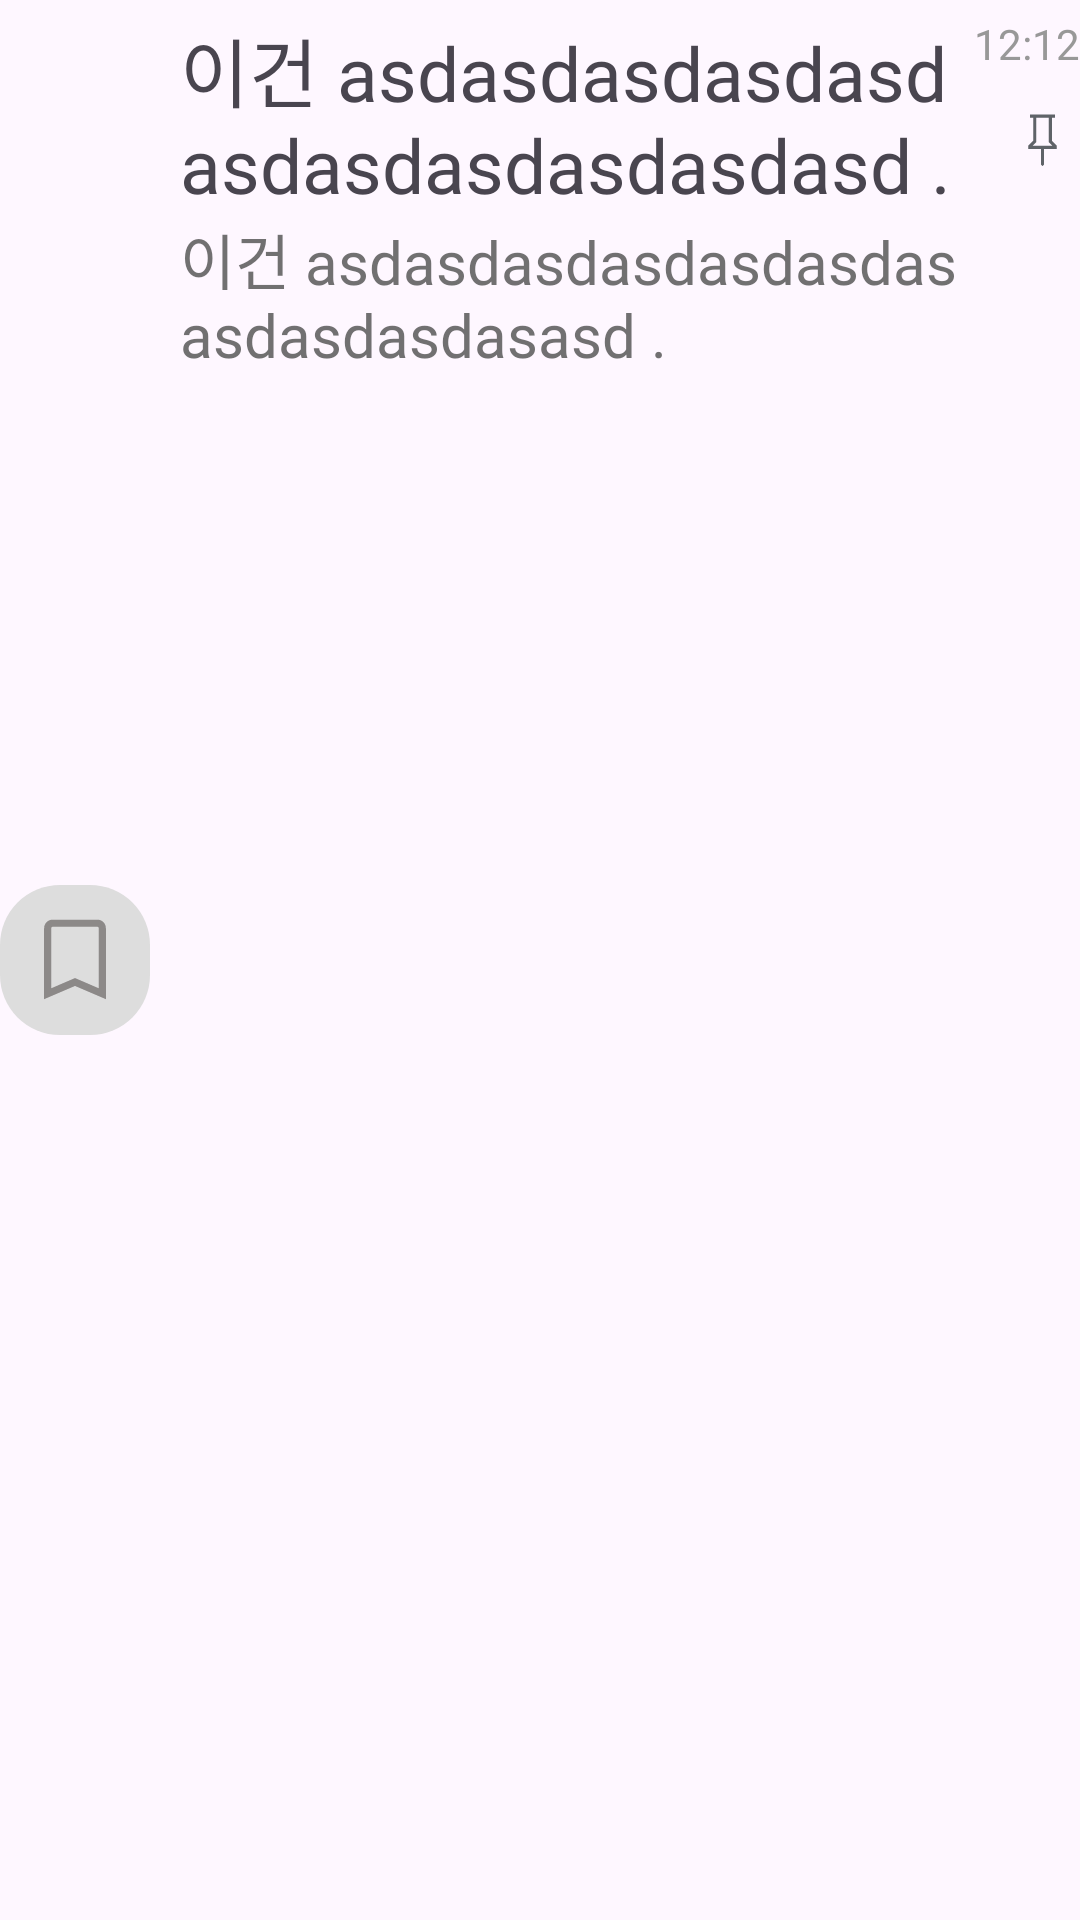

Named icons in this screenshot (1080×1920) and their centers, (x=x, y=y):
bookmark: (x=75, y=959)
keep: (x=1042, y=140)
